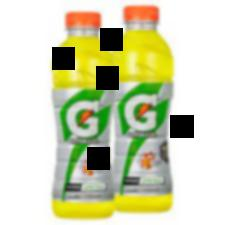gatorade_lemon: (51, 10, 115, 220), (112, 5, 175, 213)
